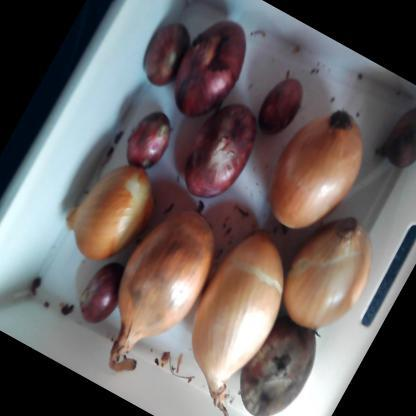onion: (153, 225, 316, 415), (246, 85, 388, 257), (264, 197, 402, 354), (157, 84, 282, 223), (48, 146, 174, 281), (106, 90, 194, 184)
